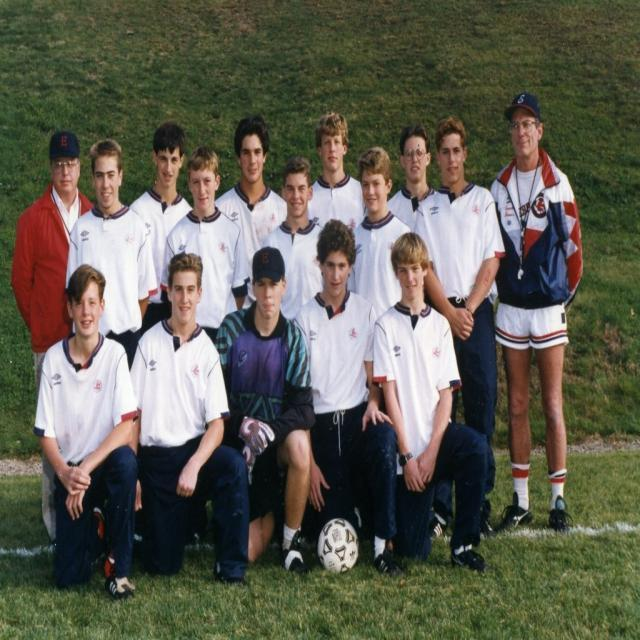ball: (317, 515, 360, 574)
